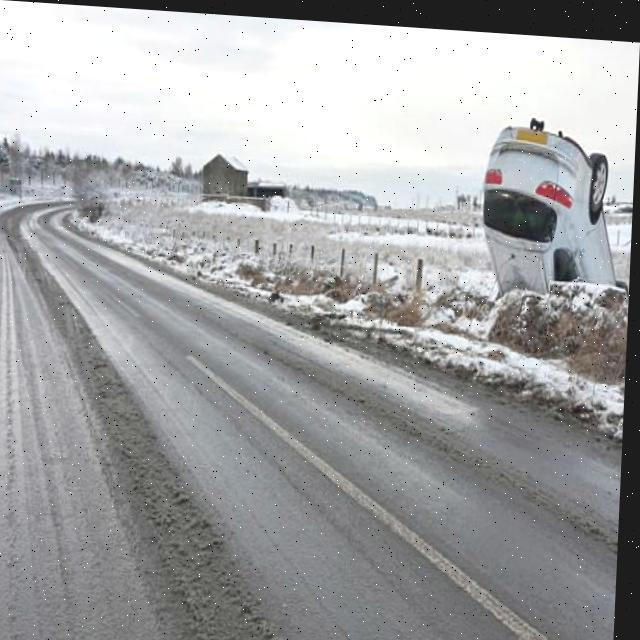single accident: (392, 25, 635, 372)
